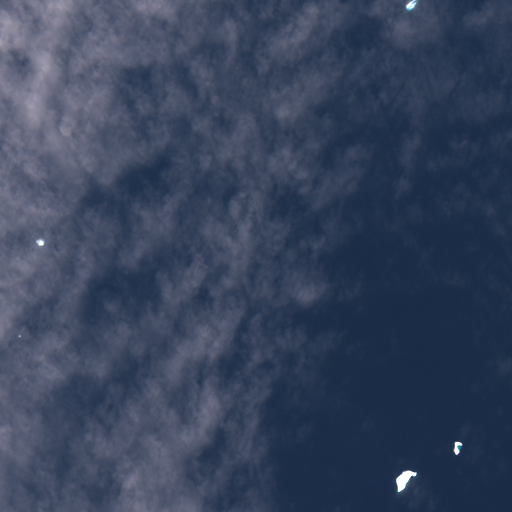Iceberg: (396, 470, 416, 491), (453, 441, 462, 454), (406, 0, 416, 10), (36, 239, 43, 245), (19, 335, 20, 337)
